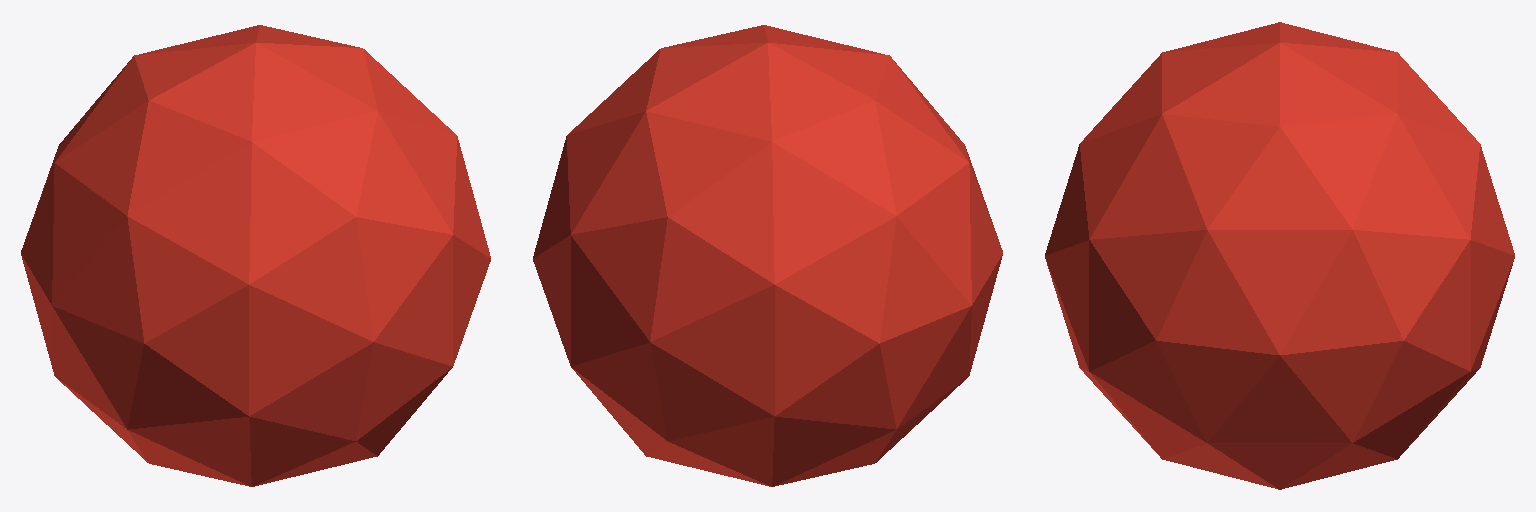
Rendered from ScoreBall (2).obj.
3 views of the same model, side by side, from view 1: azimuth 30°, elevation 25°; view 2: azimuth 150°, elevation 25°; view 3: azimuth 270°, elevation 25° (orthographic).
Visible parts, largest first — view 1: ScoreBall (2); view 2: ScoreBall (2); view 3: ScoreBall (2).
Boxes of the visible parts, box(x1,y1,x2,y2) form: ScoreBall (2): box(21, 25, 490, 486); ScoreBall (2): box(533, 25, 1002, 486); ScoreBall (2): box(1045, 22, 1514, 489).
Size of the model in its own units: 2 by 2 by 2.